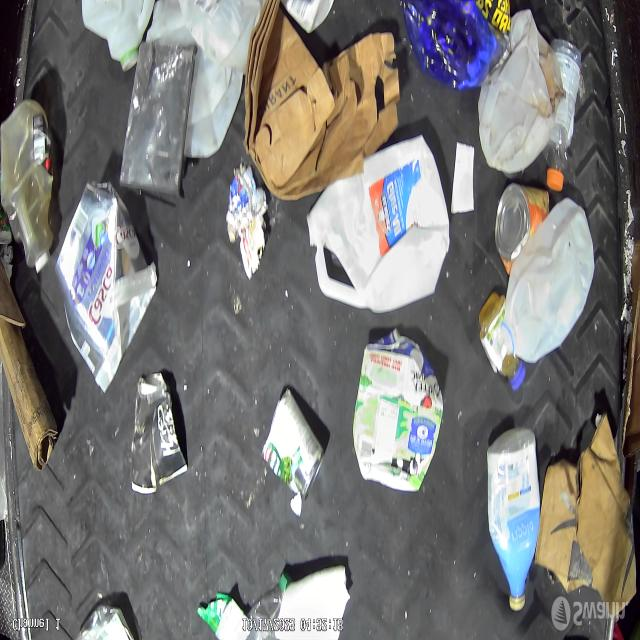can: (263, 386, 327, 501), (496, 179, 548, 268)
milk_jug: (306, 135, 449, 312), (504, 203, 596, 361), (80, 0, 160, 68)
non_white_jug: (354, 328, 444, 493), (0, 101, 54, 271)
